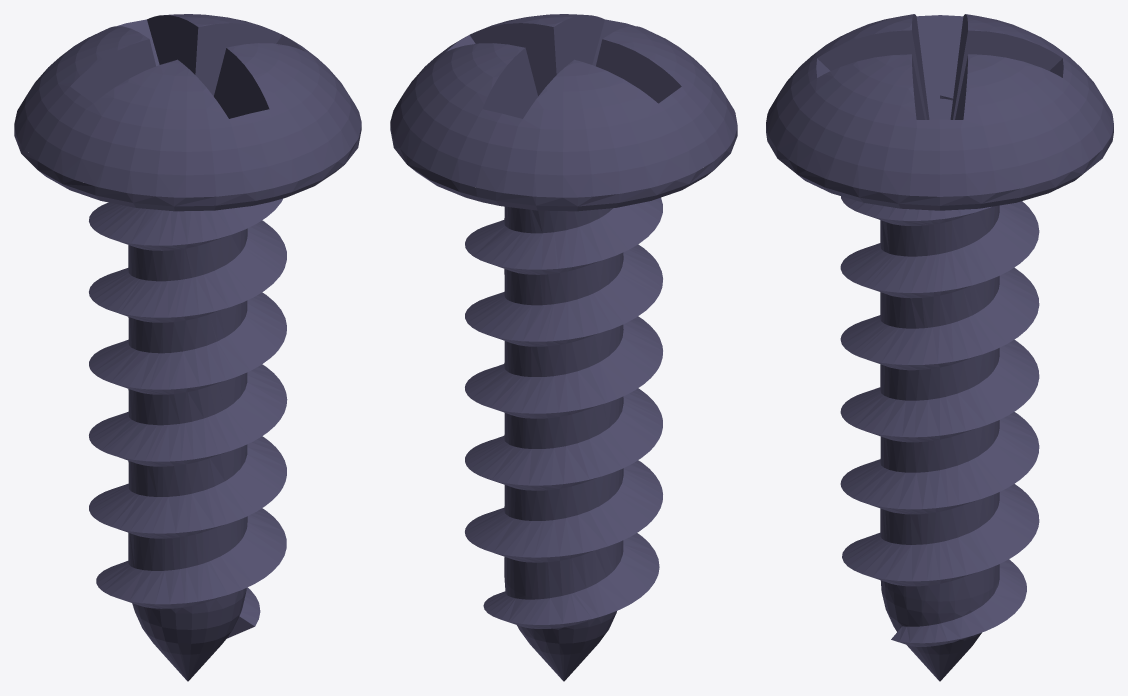
3 views of the same model, side by side, from view 1: azimuth 30°, elevation 25°; view 2: azimuth 150°, elevation 25°; view 3: azimuth 270°, elevation 25° (orthographic).
Parts seen in each view (by area): view 1: PA2X6_1-2; view 2: PA2X6_1-2; view 3: PA2X6_1-2.
Part boxes in pixels (<box>): PA2X6_1-2: <box>14,14,361,681</box>; PA2X6_1-2: <box>390,14,737,681</box>; PA2X6_1-2: <box>766,14,1113,681</box>.
Bounding box in the file's own units: 0.0035 × 0.0071 × 0.0035.
